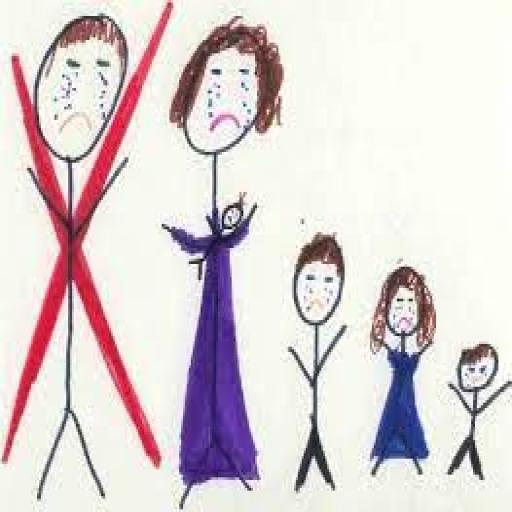person: (0, 0, 171, 509), (163, 0, 285, 509), (360, 254, 442, 500), (283, 227, 356, 497), (445, 320, 512, 498), (184, 189, 254, 289)
